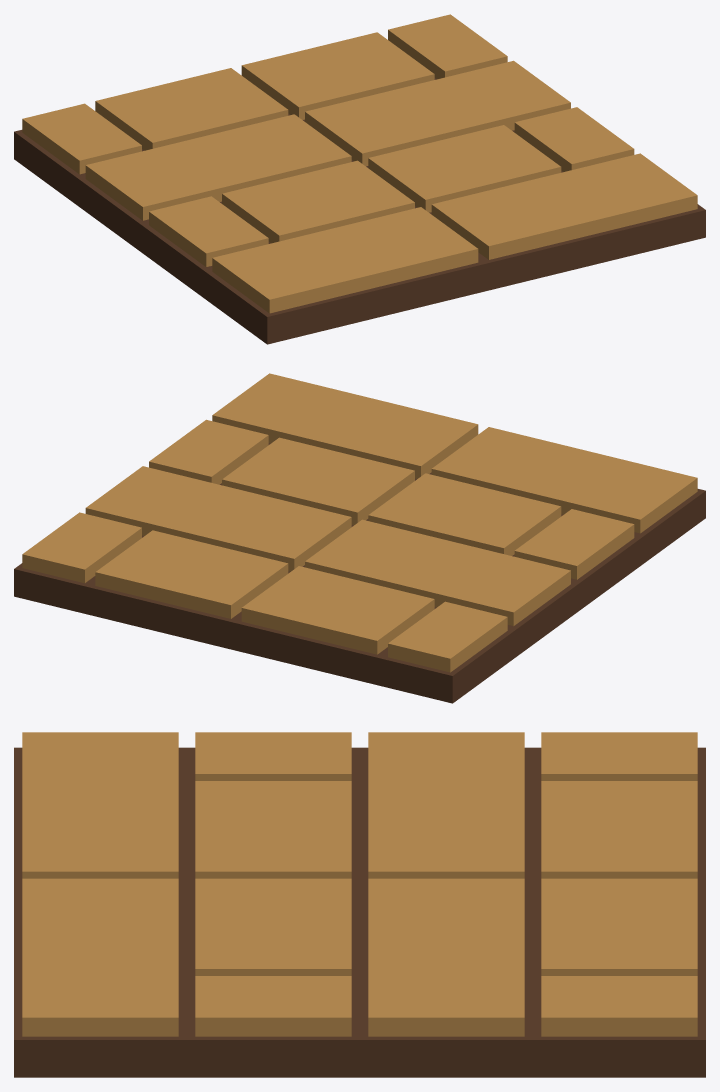
File: SM_LPI_Floor_PlankOak_01.fbx
3 renders of one model, top to bottom at view 1: azimuth 30°, elevation 25°; view 2: azimuth 150°, elevation 25°; view 3: azimuth 270°, elevation 25°, orthographic. The views are drawn at different scales.
Parts seen in each view (by area): view 1: SM_LPI_Floor_PlankOak_01; view 2: SM_LPI_Floor_PlankOak_01; view 3: SM_LPI_Floor_PlankOak_01.
Part boxes in pixels (x1,y1,x2,y2): SM_LPI_Floor_PlankOak_01: [14, 14, 705, 344]; SM_LPI_Floor_PlankOak_01: [14, 373, 705, 703]; SM_LPI_Floor_PlankOak_01: [14, 732, 705, 1077].
Size of the model in its own units: 0.5 by 0.045 by 0.5.
